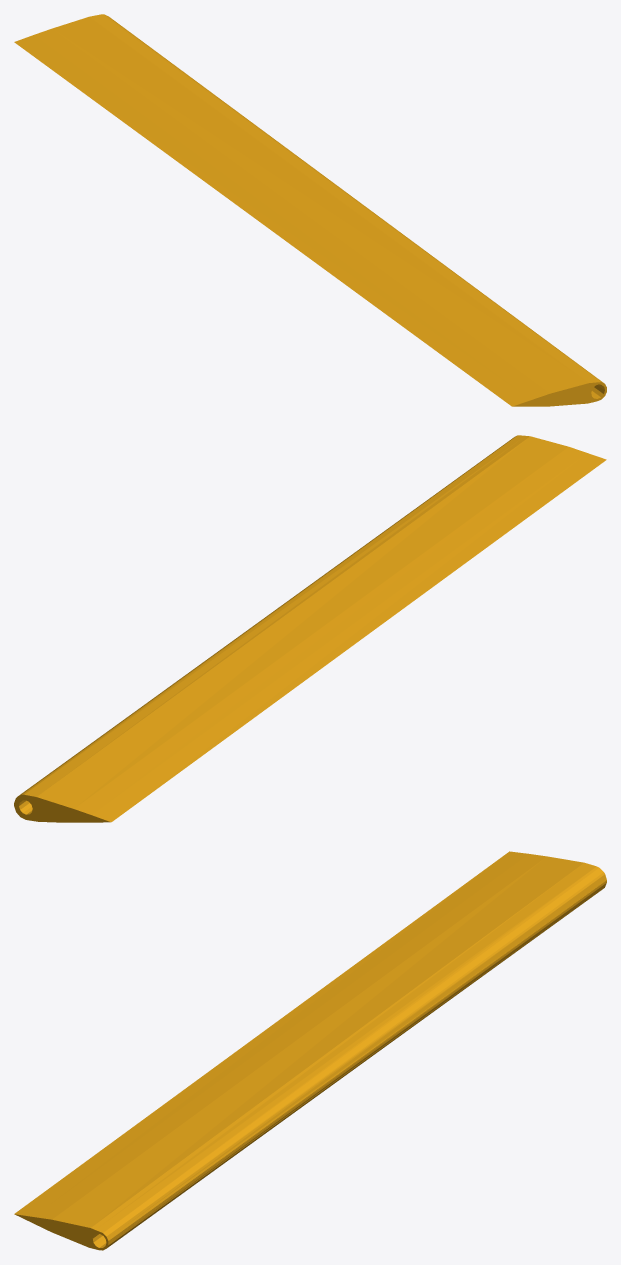
File: rudderL_yellow.dae
3 views of the same model, one above another, from view 1: azimuth 30°, elevation 25°; view 2: azimuth 150°, elevation 25°; view 3: azimuth 330°, elevation 25° (orthographic).
Parts seen in each view (by area): view 1: Rudder_L; view 2: Rudder_L; view 3: Rudder_L.
Boxes of the visible parts, x1,y1,x2,y2 form: Rudder_L: [14, 14, 606, 406]; Rudder_L: [14, 435, 606, 822]; Rudder_L: [14, 851, 606, 1250].
Bounding box in the file's own units: 0.0284 × 0.25 × 0.00708.
